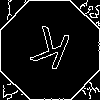K: (25, 25, 73, 80)
